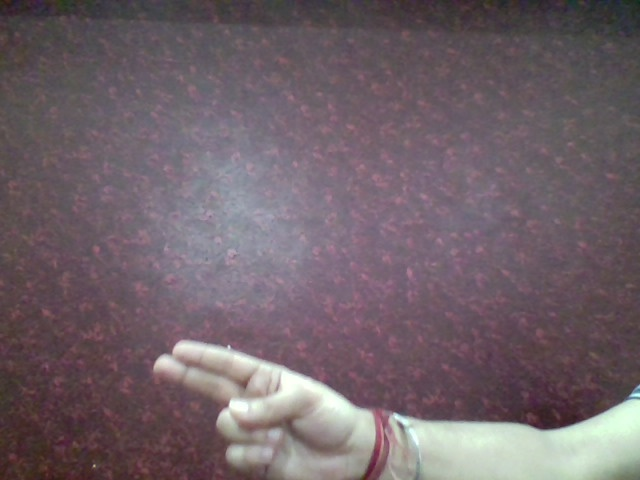h: (142, 330, 359, 476)
